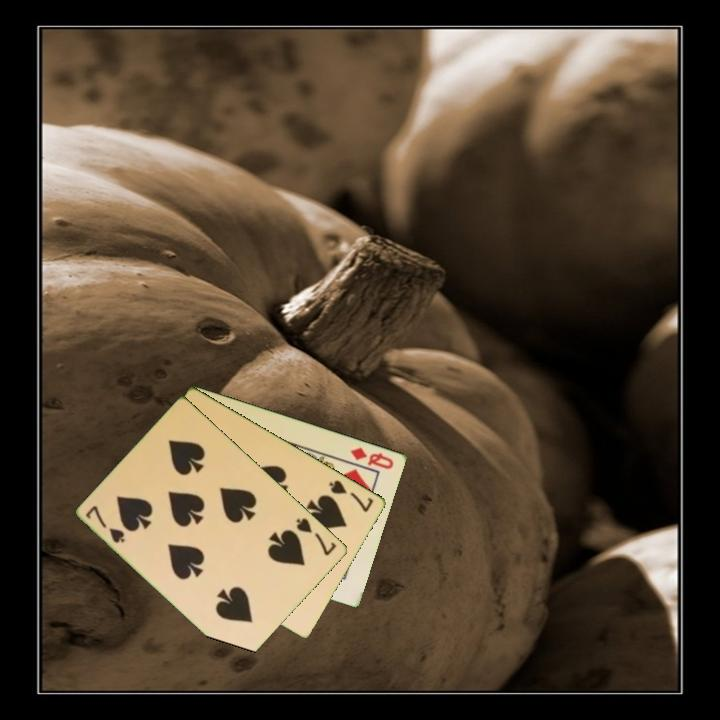7s: (293, 514, 340, 559), (82, 502, 129, 546), (325, 476, 377, 515)
Qd: (347, 443, 397, 472)
